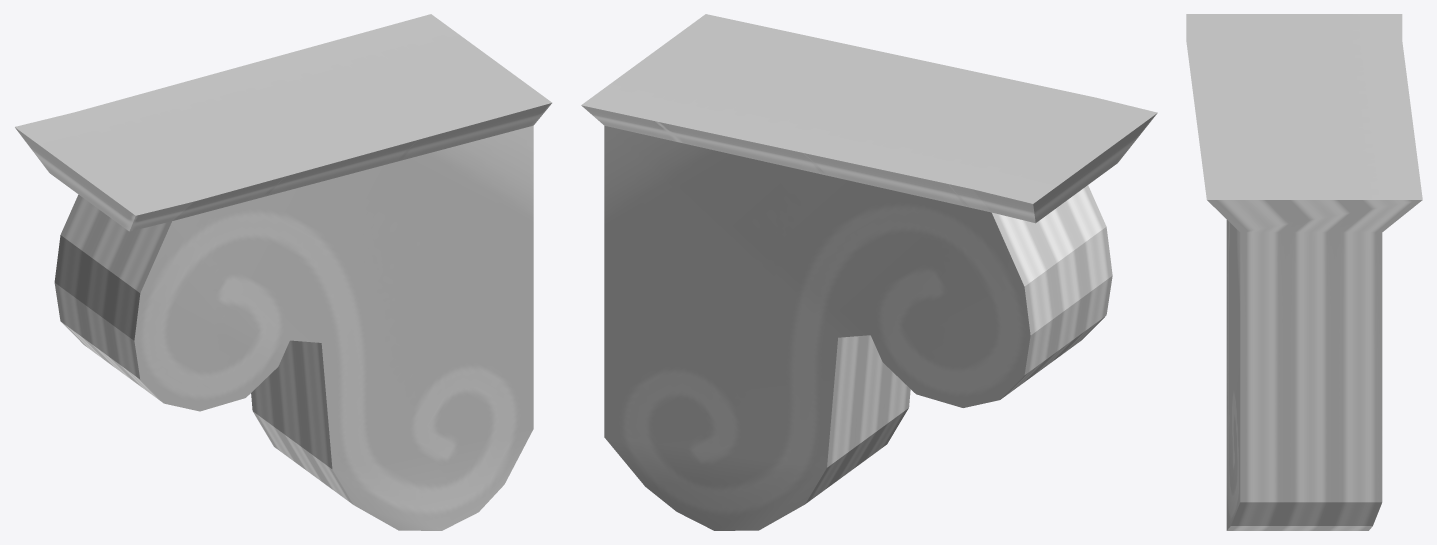
The model's file is Deco_b.fbx.
The picture shows the model from 3 angles, left to right: view 1: azimuth 30°, elevation 25°; view 2: azimuth 150°, elevation 25°; view 3: azimuth 270°, elevation 25°; orthographic projection. The views are drawn at different scales.
Visible parts, largest first — view 1: polySurface10; view 2: polySurface10; view 3: polySurface10.
Boxes of the visible parts, left/top/right/bottom form: polySurface10: left=15, top=14, right=552, bottom=530; polySurface10: left=581, top=14, right=1157, bottom=530; polySurface10: left=1186, top=14, right=1422, bottom=530.
Size of the model in its own units: 1.81 by 1.66 by 0.9732.
